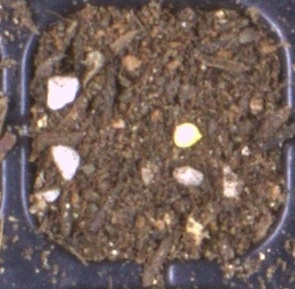chilli seed: (173, 121, 202, 148)
